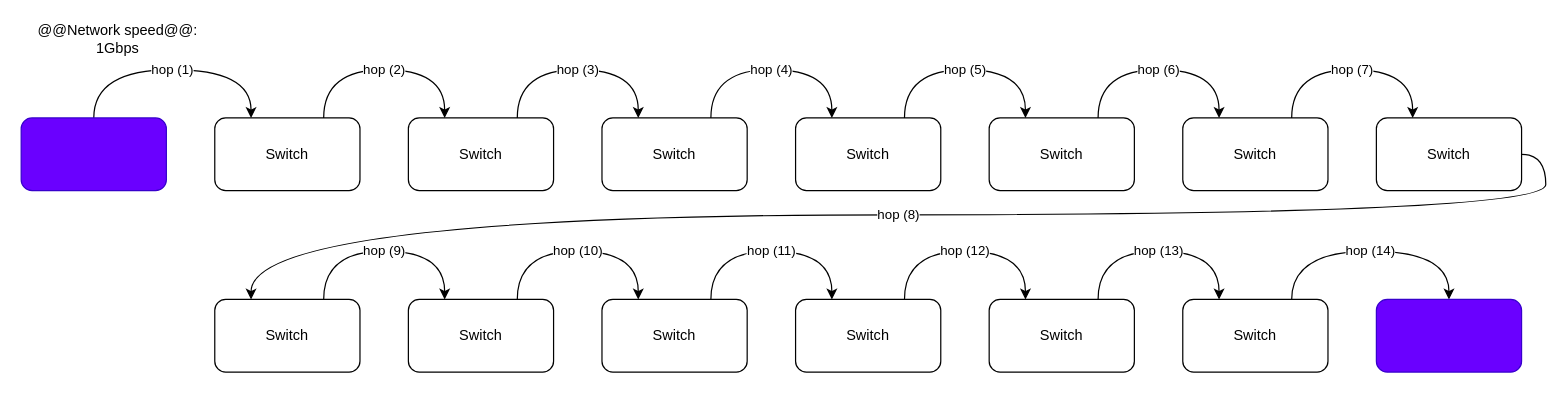
This 1567x393 diagram has some shape labels left out. Each missing label, with the centre of its shape:
"Milan Listener" goes at (1448,335).
"Milan Talker" goes at (93,154).
